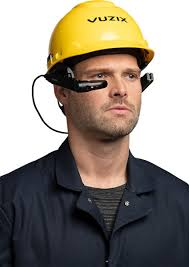Person_wearing_helmet: (37, 0, 149, 97)
